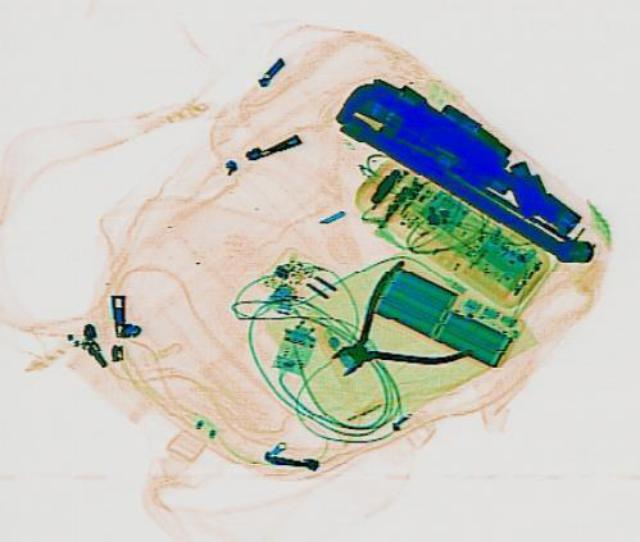Pliers: (291, 257, 483, 405)
